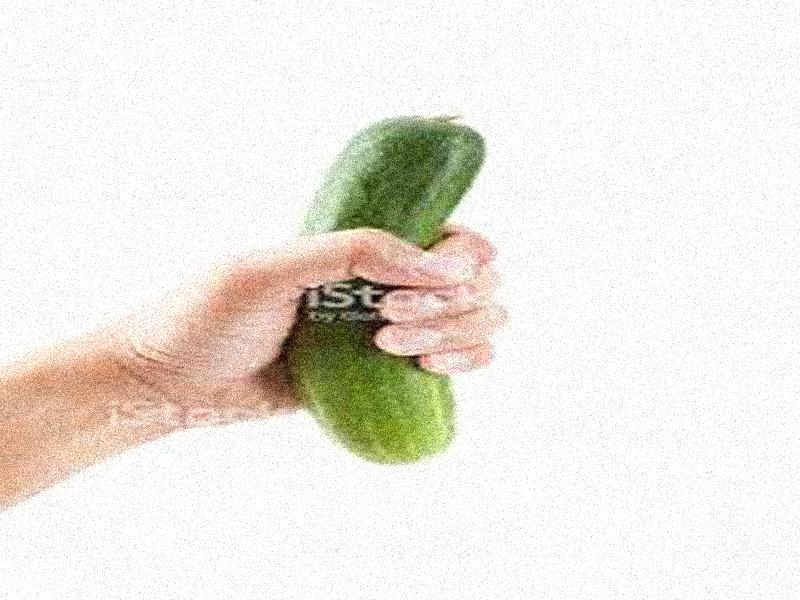Cucumber: (284, 116, 490, 463)
